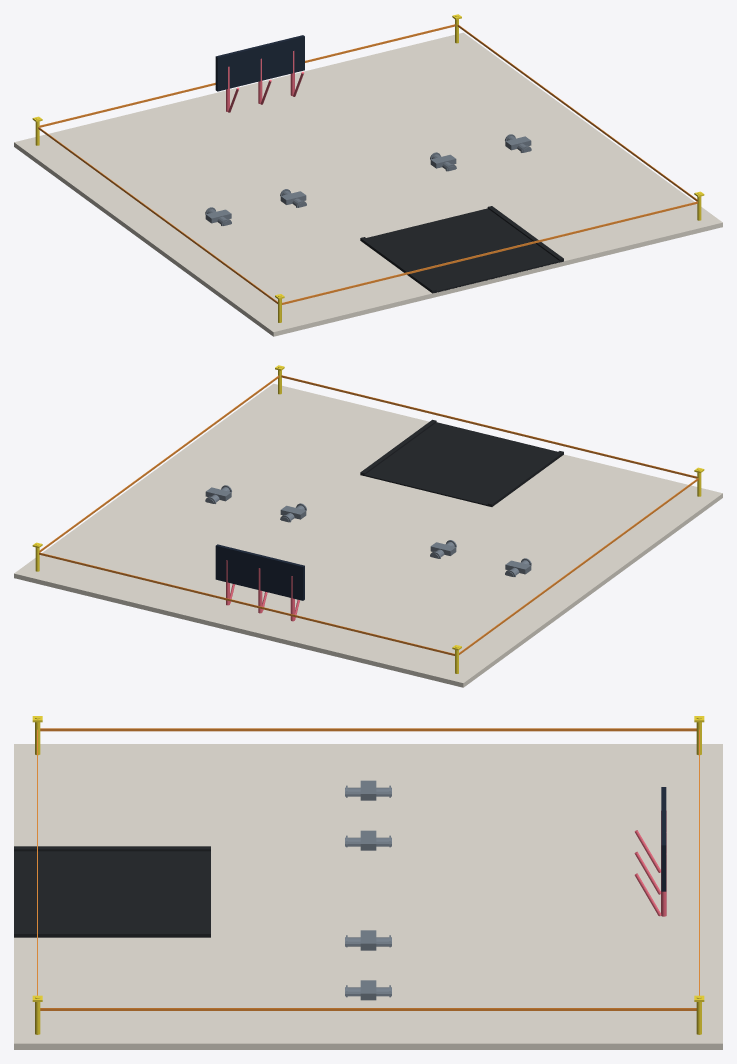
The model's file is hq_02_powertrain_l0.glb.
3 renders of one model, top to bottom at view 1: azimuth 30°, elevation 25°; view 2: azimuth 150°, elevation 25°; view 3: azimuth 270°, elevation 25°, orthographic. The views are drawn at different scales.
Visible parts, largest first — view 1: PLOT_02_GROUND_PAD, PLOT_02_ACCESS_ROAD_STUB, PLOT_02_CAUTION_TAPE_RAILS, PLOT_02_BILLBOARD_PANEL, PLOT_02_TRENCH_MARKERS, PLOT_02_BILLBOARD_LEGS, PLOT_02_SURVEY_STAKES; view 2: PLOT_02_GROUND_PAD, PLOT_02_ACCESS_ROAD_STUB, PLOT_02_CAUTION_TAPE_RAILS, PLOT_02_BILLBOARD_PANEL, PLOT_02_TRENCH_MARKERS, PLOT_02_BILLBOARD_LEGS, PLOT_02_SURVEY_STAKES; view 3: PLOT_02_GROUND_PAD, PLOT_02_ACCESS_ROAD_STUB, PLOT_02_CAUTION_TAPE_RAILS, PLOT_02_TRENCH_MARKERS, PLOT_02_SURVEY_STAKES, PLOT_02_BILLBOARD_LEGS, PLOT_02_BILLBOARD_PANEL.
Boxes of the visible parts, x1,y1,x2,y2 form: PLOT_02_GROUND_PAD: (14,32,722,336); PLOT_02_ACCESS_ROAD_STUB: (360,206,563,293); PLOT_02_CAUTION_TAPE_RAILS: (38,24,697,304); PLOT_02_BILLBOARD_PANEL: (215,35,304,91); PLOT_02_TRENCH_MARKERS: (205,134,531,225); PLOT_02_BILLBOARD_LEGS: (226,51,303,112); PLOT_02_SURVEY_STAKES: (32,14,704,322); PLOT_02_GROUND_PAD: (14,383,722,687); PLOT_02_ACCESS_ROAD_STUB: (360,419,563,506); PLOT_02_CAUTION_TAPE_RAILS: (39,375,698,655); PLOT_02_BILLBOARD_PANEL: (215,544,304,600); PLOT_02_TRENCH_MARKERS: (205,485,531,576); PLOT_02_BILLBOARD_LEGS: (226,560,299,621); PLOT_02_SURVEY_STAKES: (32,365,704,673); PLOT_02_GROUND_PAD: (14,744,722,1049); PLOT_02_ACCESS_ROAD_STUB: (14,846,210,937); PLOT_02_CAUTION_TAPE_RAILS: (37,728,699,1010); PLOT_02_TRENCH_MARKERS: (345,780,391,1000); PLOT_02_SURVEY_STAKES: (32,716,704,1034); PLOT_02_BILLBOARD_LEGS: (634,810,666,916); PLOT_02_BILLBOARD_PANEL: (661,787,666,891).
Size of what is drawn, in the model's own units: 36 by 4.77 by 36.
